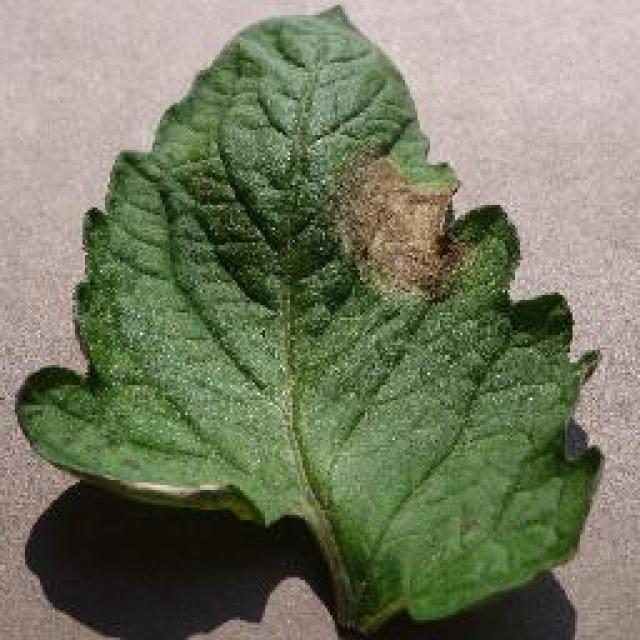Tomato Late Blight: (133, 110, 570, 405)
